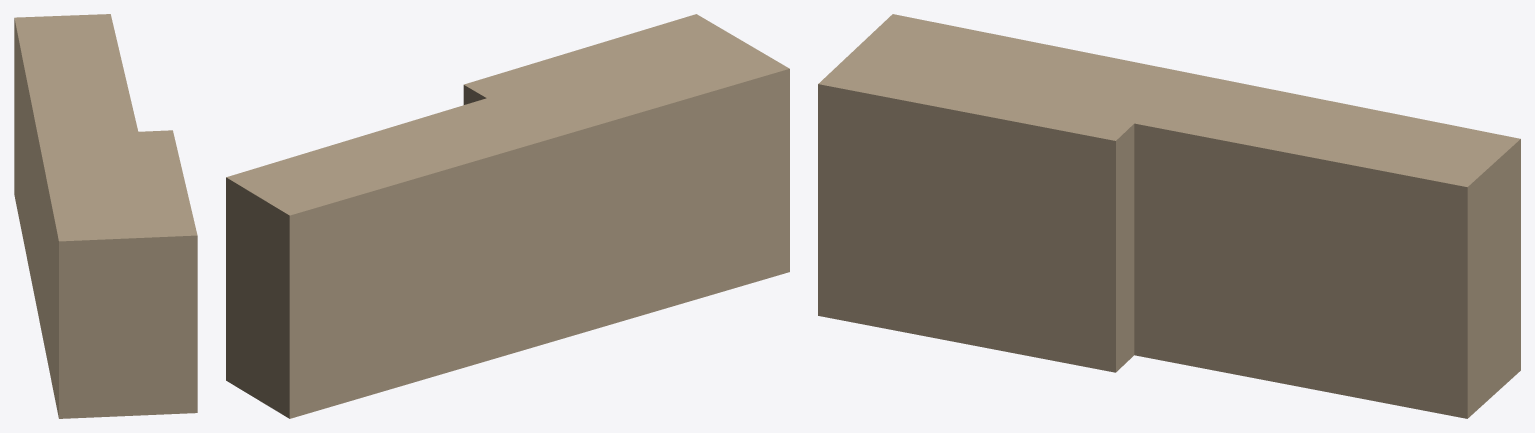
The model's file is bld_99020370.dae.
3 renders of one model, left to right at view 1: azimuth 30°, elevation 25°; view 2: azimuth 150°, elevation 25°; view 3: azimuth 270°, elevation 25°, orthographic. The views are drawn at different scales.
Parts seen in each view (by area): view 1: bld_99020370; view 2: bld_99020370; view 3: bld_99020370.
Part boxes in pixels (x1=…): bld_99020370: x1=14, y1=14, x2=197, y2=418; bld_99020370: x1=226, y1=14, x2=789, y2=418; bld_99020370: x1=818, y1=14, x2=1520, y2=418.
Size of the model in its own units: 12.82 by 21.98 by 8.
